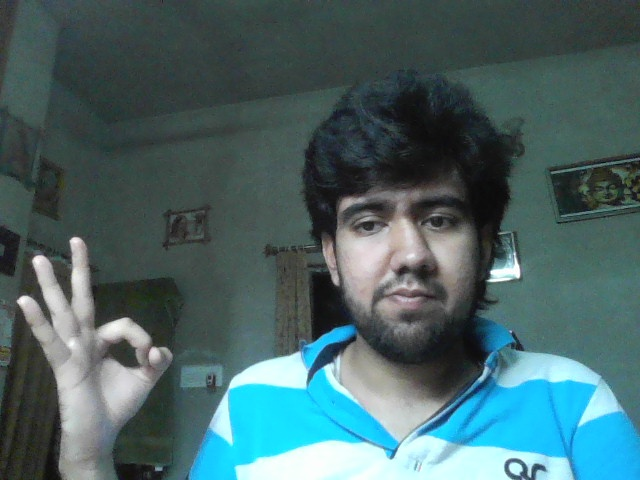Nice: (16, 236, 173, 453)
